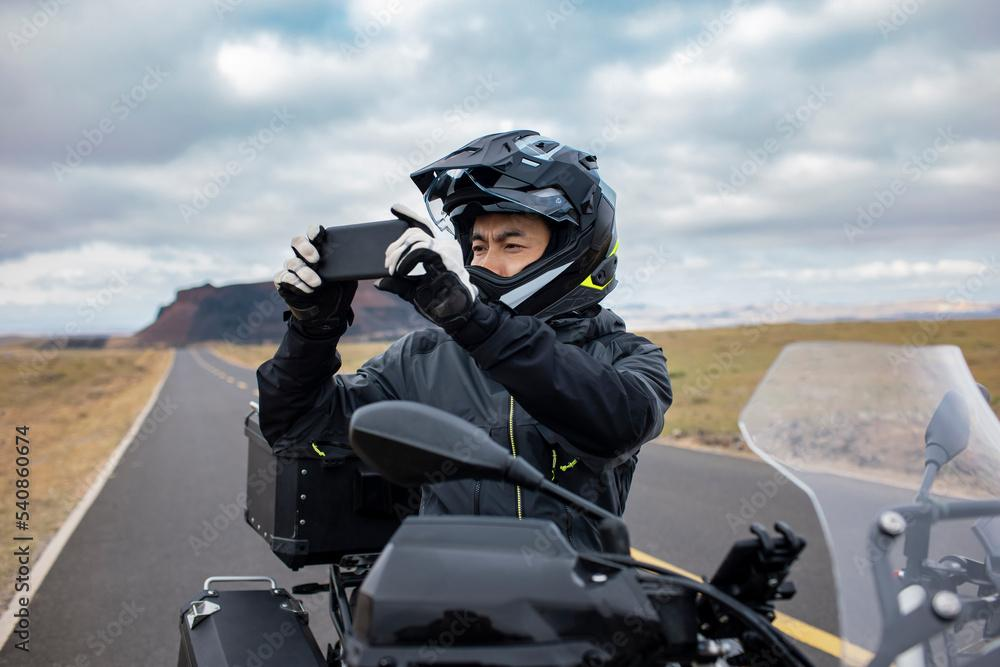helmet: (408, 127, 620, 342)
